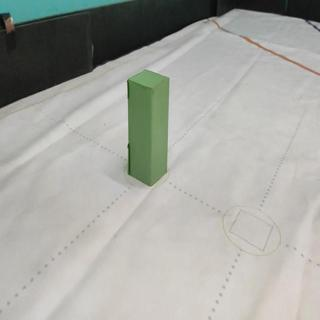greenbox: (128, 70, 170, 189)
